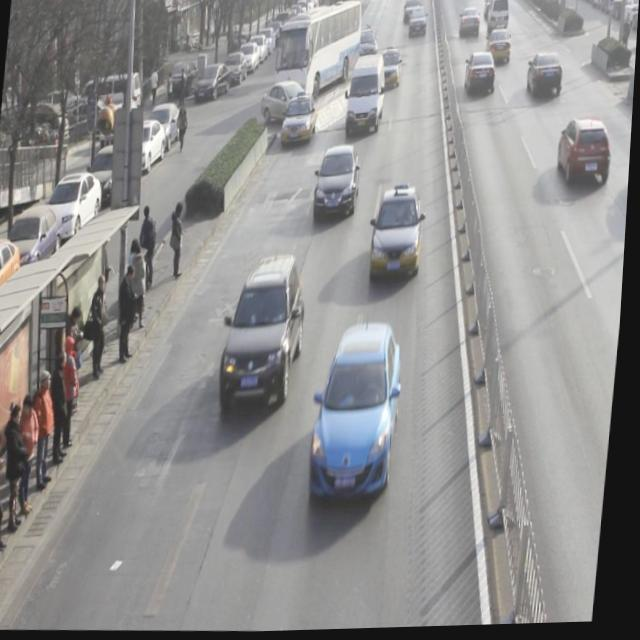car: (313, 320, 410, 507), (222, 249, 314, 417), (371, 187, 427, 282), (557, 120, 615, 190), (315, 146, 365, 224), (260, 83, 317, 129), (281, 97, 321, 151), (527, 53, 566, 104), (463, 52, 499, 100), (486, 29, 514, 71), (377, 51, 403, 92), (457, 8, 483, 44)
truck: (346, 56, 389, 139), (486, 0, 511, 38)
van: (272, 3, 364, 106)
